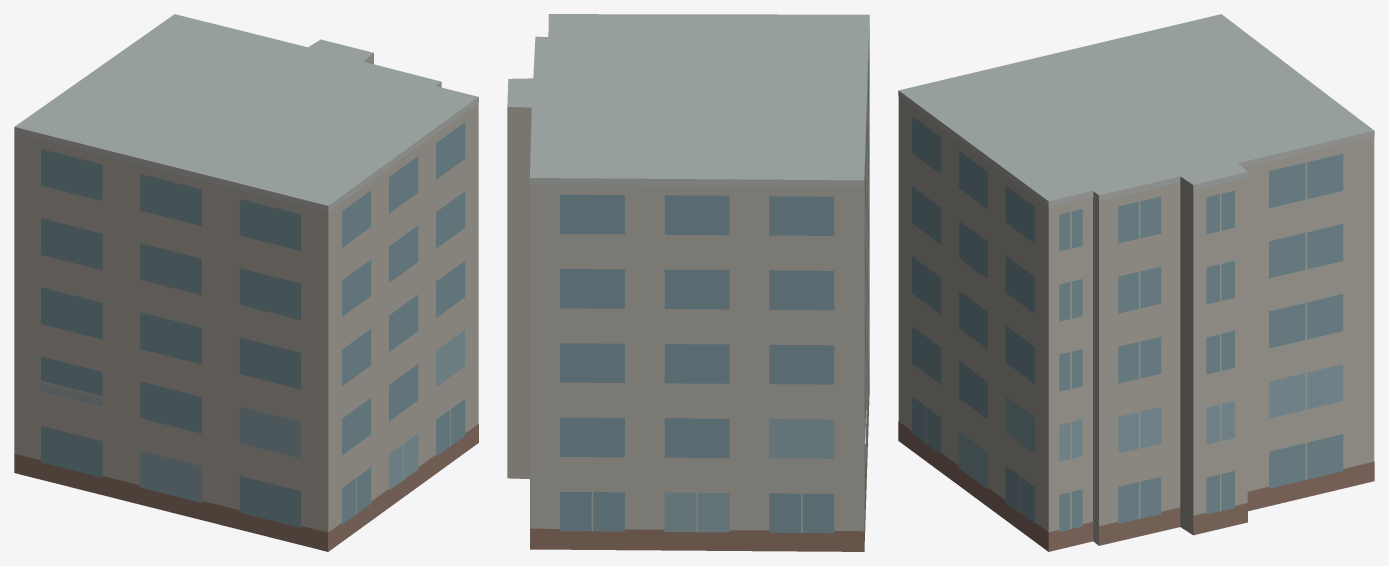
Rendered from survey-upis-32685117.glb.
The picture shows the model from 3 angles, left to right: view 1: azimuth 30°, elevation 25°; view 2: azimuth 150°, elevation 25°; view 3: azimuth 270°, elevation 25°; orthographic projection. The views are drawn at different scales.
Visible parts, largest first — view 1: survey-upis-32685117.tmp; view 2: survey-upis-32685117.tmp; view 3: survey-upis-32685117.tmp.
Part boxes in pixels (x1=…): survey-upis-32685117.tmp: x1=14, y1=14, x2=478, y2=551; survey-upis-32685117.tmp: x1=507, y1=14, x2=869, y2=551; survey-upis-32685117.tmp: x1=898, y1=14, x2=1374, y2=551.
Bounding box in the file's own units: 16.18 × 14.1 × 17.36.
